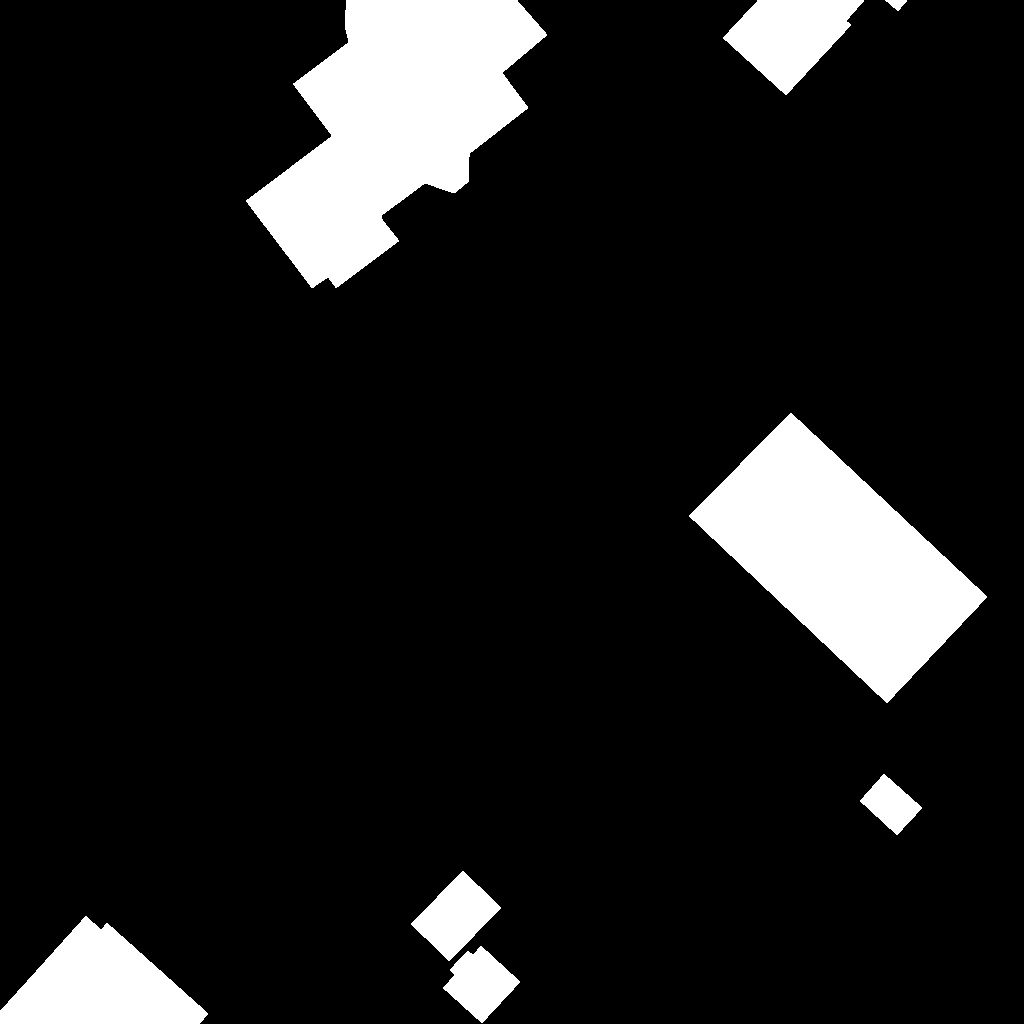building: (246, 0, 548, 289), (689, 413, 988, 704), (0, 916, 209, 1024), (723, 0, 909, 96), (411, 871, 502, 962), (443, 946, 521, 1024), (860, 774, 923, 836)
